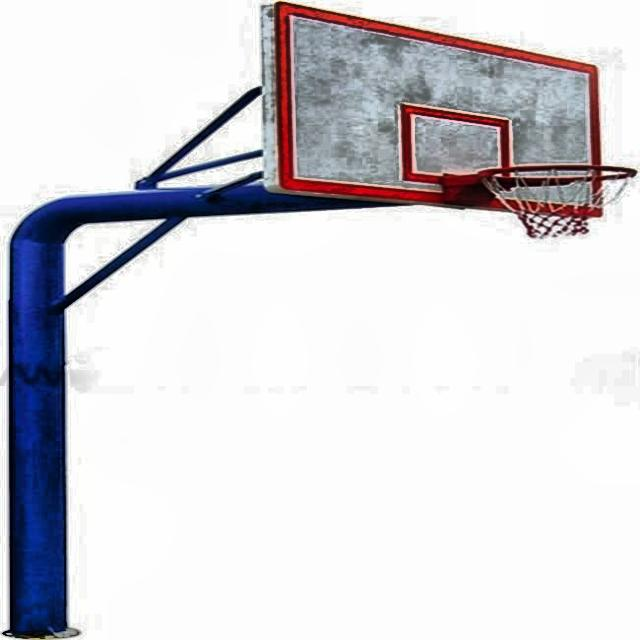rim: (487, 162, 636, 242)
